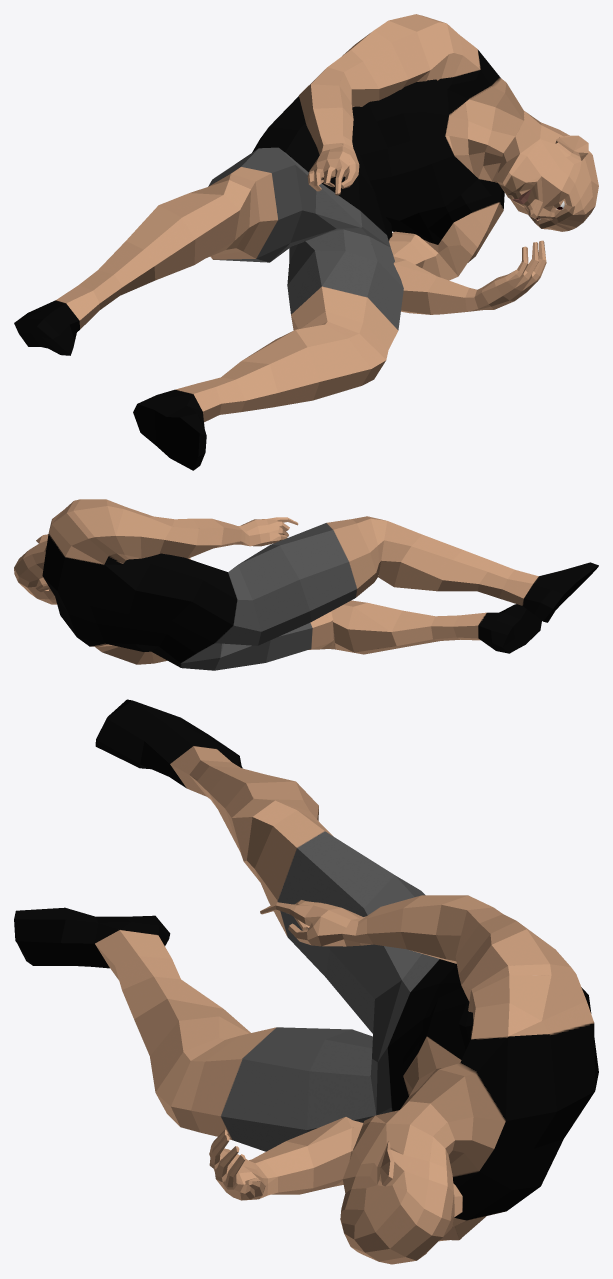
Rendered from PlayerDead(59).obj.
The picture shows the model from 3 angles, top to bottom: view 1: azimuth 30°, elevation 25°; view 2: azimuth 150°, elevation 25°; view 3: azimuth 270°, elevation 25°; orthographic projection. The views are drawn at different scales.
Parts seen in each view (by area): view 1: Plane002; view 2: Plane002; view 3: Plane002.
Part boxes in pixels (x1,y1,x2,y2): Plane002: (14, 14, 598, 470); Plane002: (14, 499, 598, 670); Plane002: (14, 699, 598, 1264).
Bounding box in the file's own units: 1623 × 553 × 950.
